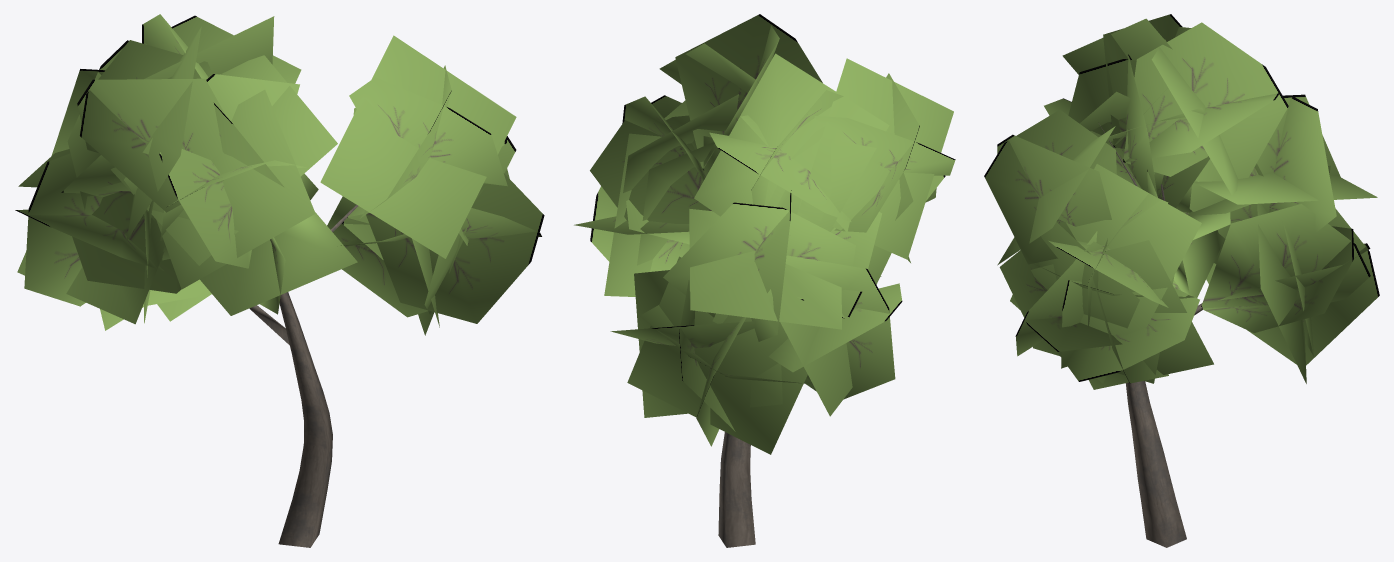
Rendered from tree_Shrub_Oak_LOD0.fbx.
3 views of the same model, side by side, from view 1: azimuth 30°, elevation 25°; view 2: azimuth 150°, elevation 25°; view 3: azimuth 270°, elevation 25° (orthographic). The views are drawn at different scales.
Visible parts, largest first — view 1: Shrub_Oak_LOD0; view 2: Shrub_Oak_LOD0; view 3: Shrub_Oak_LOD0.
Part boxes in pixels (left/top/right/bottom): Shrub_Oak_LOD0: left=15, top=14, right=544, bottom=547; Shrub_Oak_LOD0: left=574, top=14, right=955, bottom=547; Shrub_Oak_LOD0: left=984, top=14, right=1379, bottom=547.
Bounding box in the file's own units: 408 × 514 × 388.
